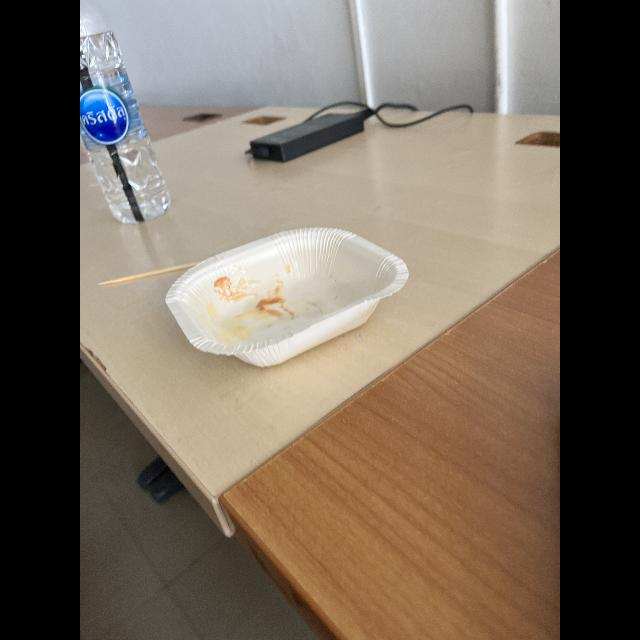cardboard_bowl: (166, 222, 408, 370)
stick: (90, 262, 196, 296)
